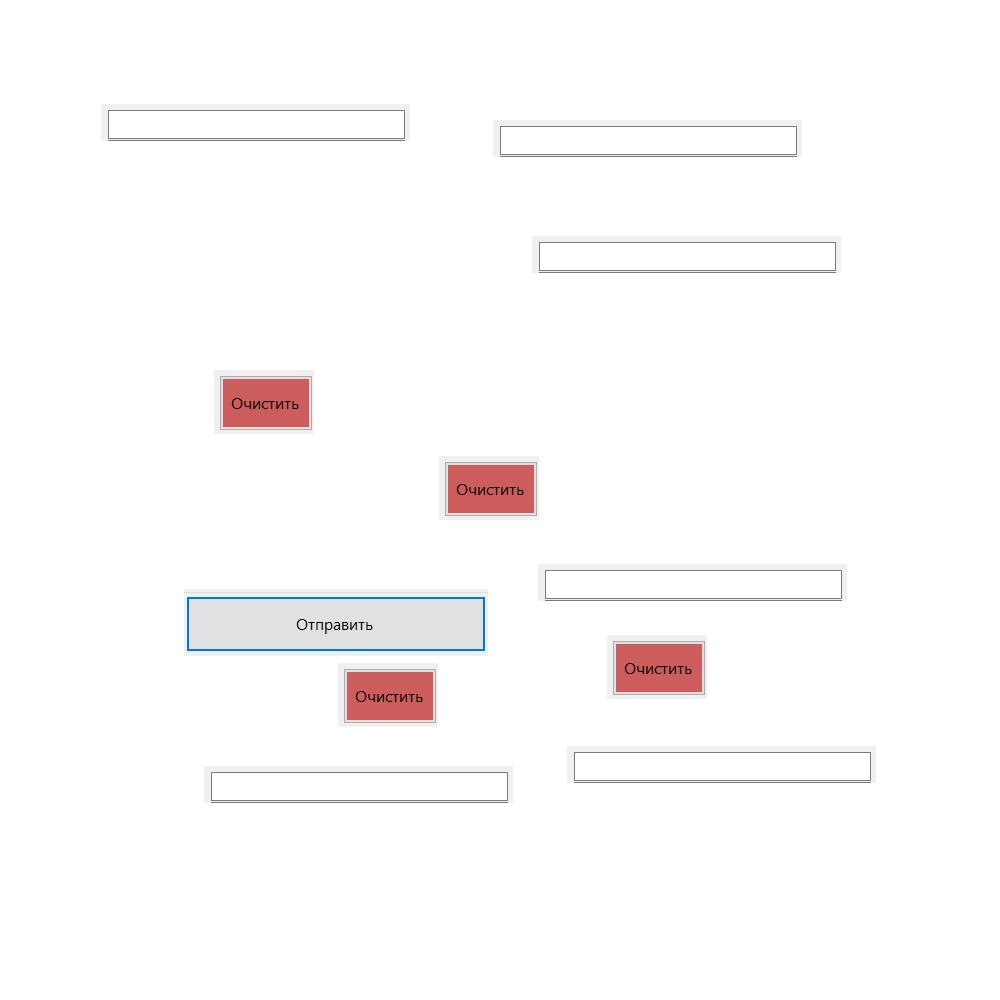Button: (184, 589, 488, 656), (214, 370, 314, 434), (607, 635, 707, 699), (439, 456, 539, 520), (338, 663, 438, 727)
EditText-: (538, 564, 847, 601), (532, 236, 841, 273), (101, 104, 410, 141), (204, 766, 513, 803), (567, 746, 876, 783), (493, 120, 802, 157)
